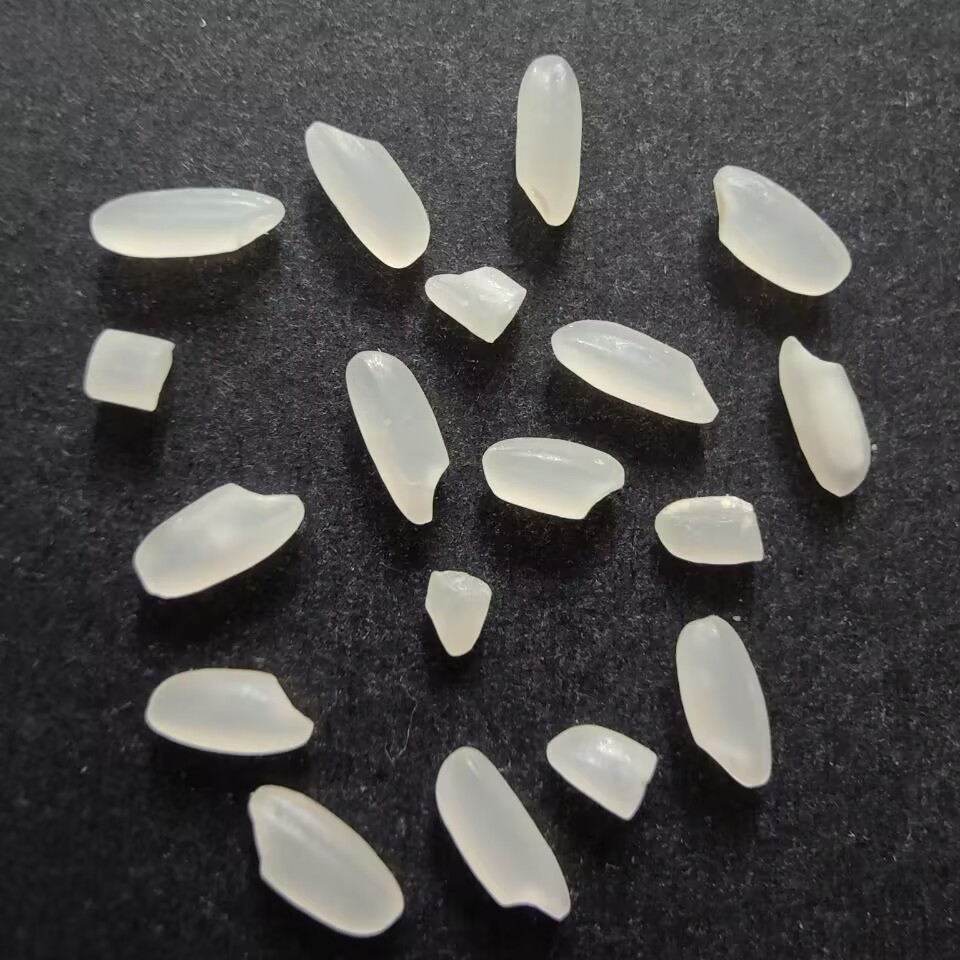broken: (544, 721, 661, 821), (421, 262, 528, 350), (652, 493, 765, 572), (82, 326, 175, 415), (420, 566, 498, 658)
rice: (241, 781, 408, 939), (428, 742, 570, 925), (129, 479, 305, 601), (706, 159, 855, 299), (544, 314, 721, 431), (303, 118, 434, 273), (343, 347, 452, 531), (671, 611, 776, 792), (776, 332, 876, 499), (86, 186, 286, 267), (143, 666, 320, 754), (509, 52, 586, 231), (477, 435, 631, 524)
